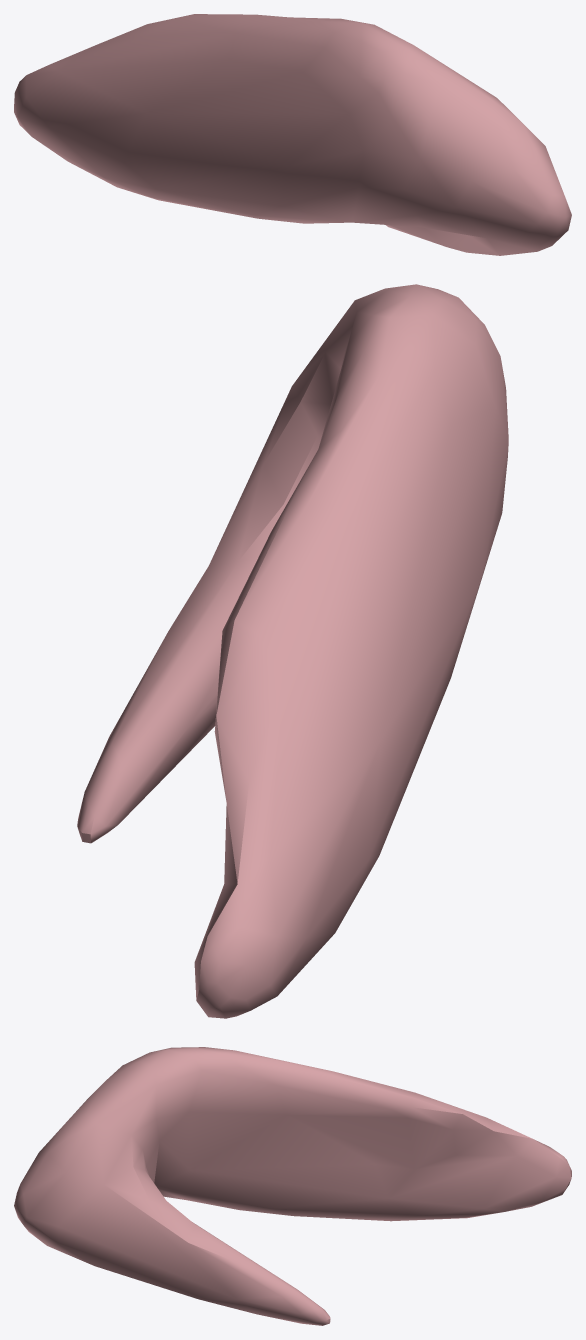
The model's file is fma59505_fj6616.glb.
3 renders of one model, top to bottom at view 1: azimuth 30°, elevation 25°; view 2: azimuth 150°, elevation 25°; view 3: azimuth 270°, elevation 25°, orthographic. The views are drawn at different scales.
Visible parts, largest first — view 1: FMA59505_FJ6616; view 2: FMA59505_FJ6616; view 3: FMA59505_FJ6616.
Part boxes in pixels (x1,y1,x2,y2): FMA59505_FJ6616: (14,14,571,255); FMA59505_FJ6616: (77,284,508,1018); FMA59505_FJ6616: (14,1047,571,1325).
Size of the model in its own units: 0.0151 by 0.0157 by 0.0337.
